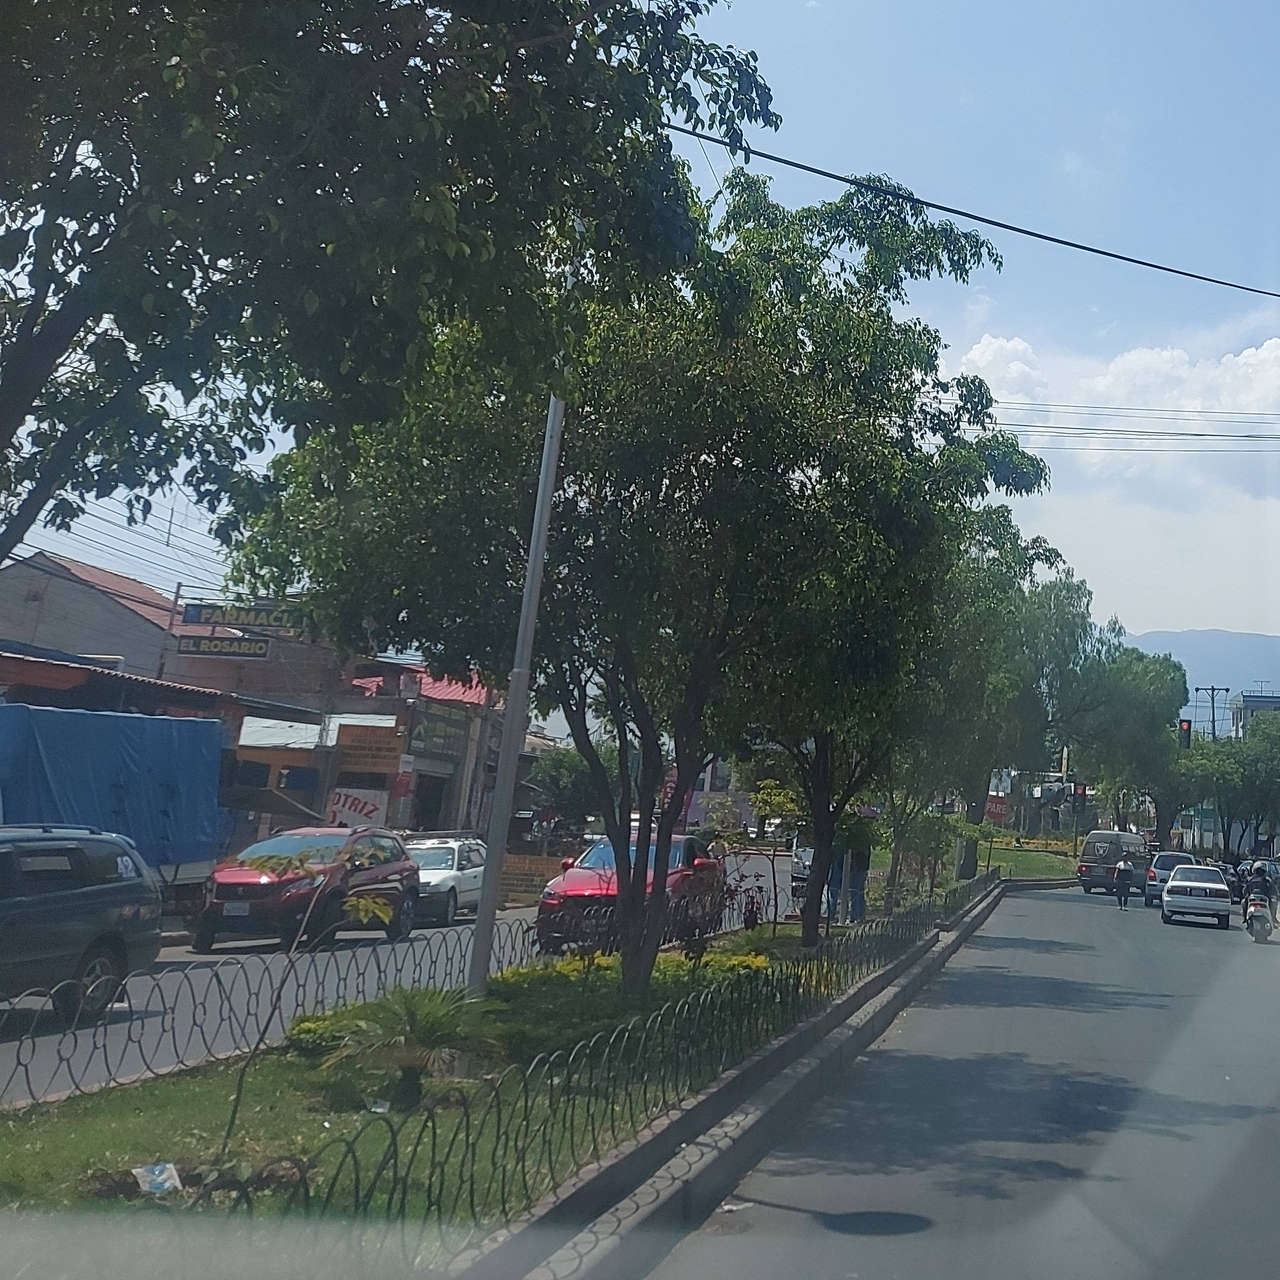pare: (986, 792, 1005, 821)
